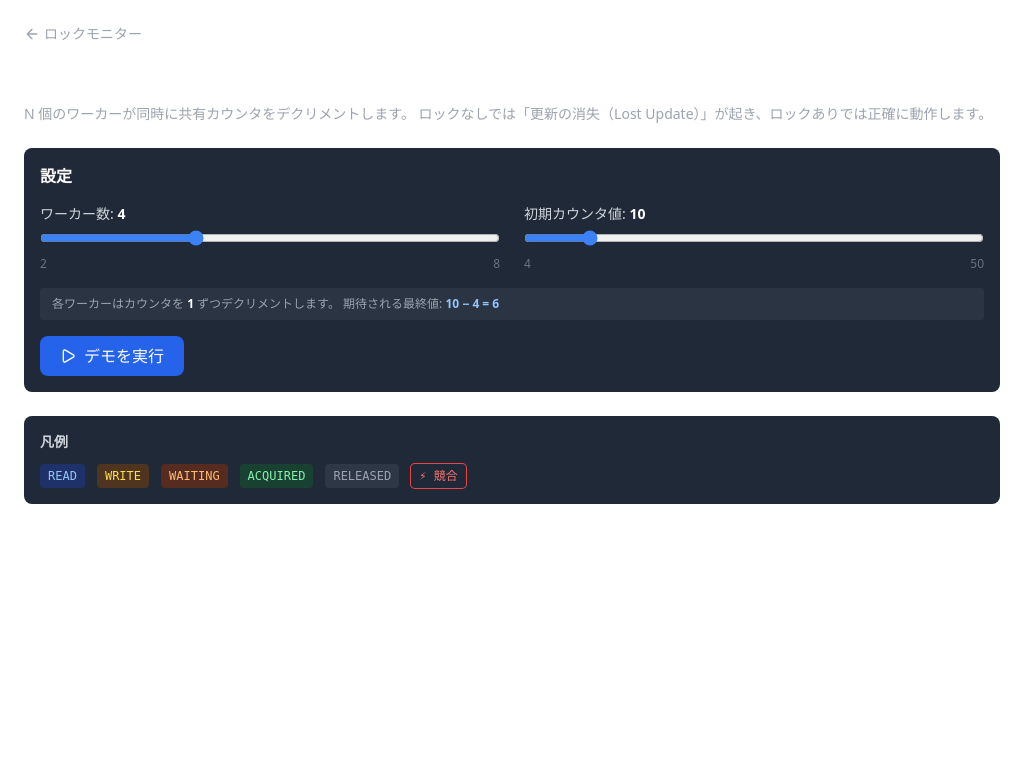
Test: LockDemoPage › shows error message for non-Error rejection
Click the button "デモを実行" at (112, 356), box [40,336,184,376]
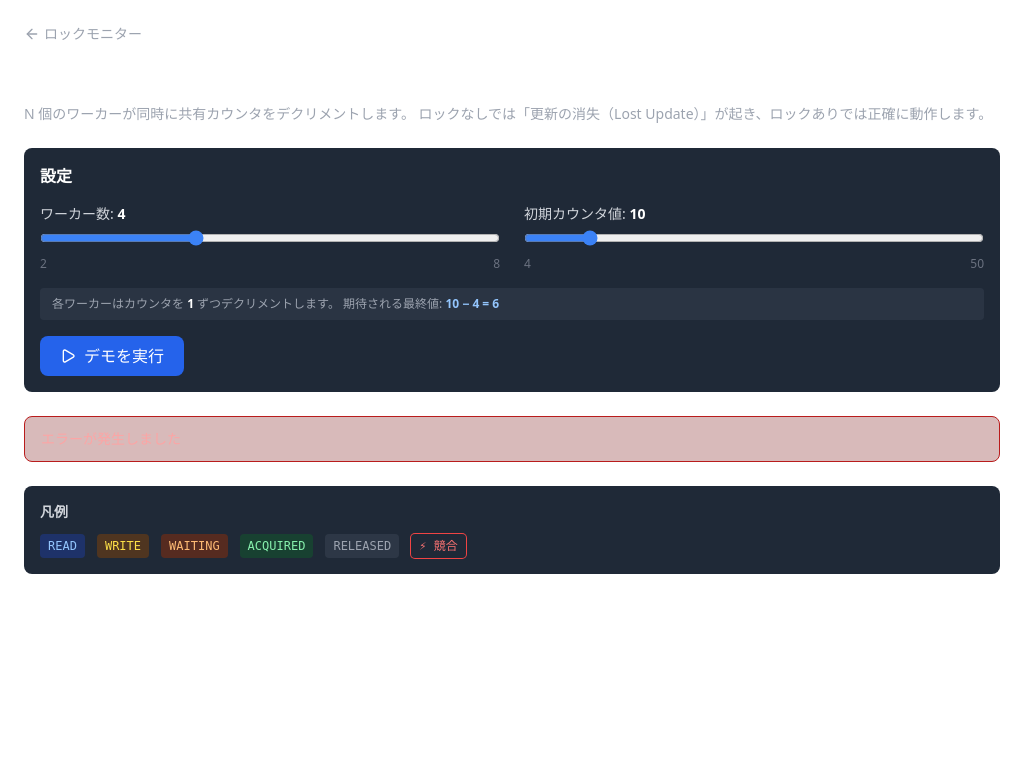
Expected: the text "エラーが発生しました" is shown, [24,416,1000,462]
